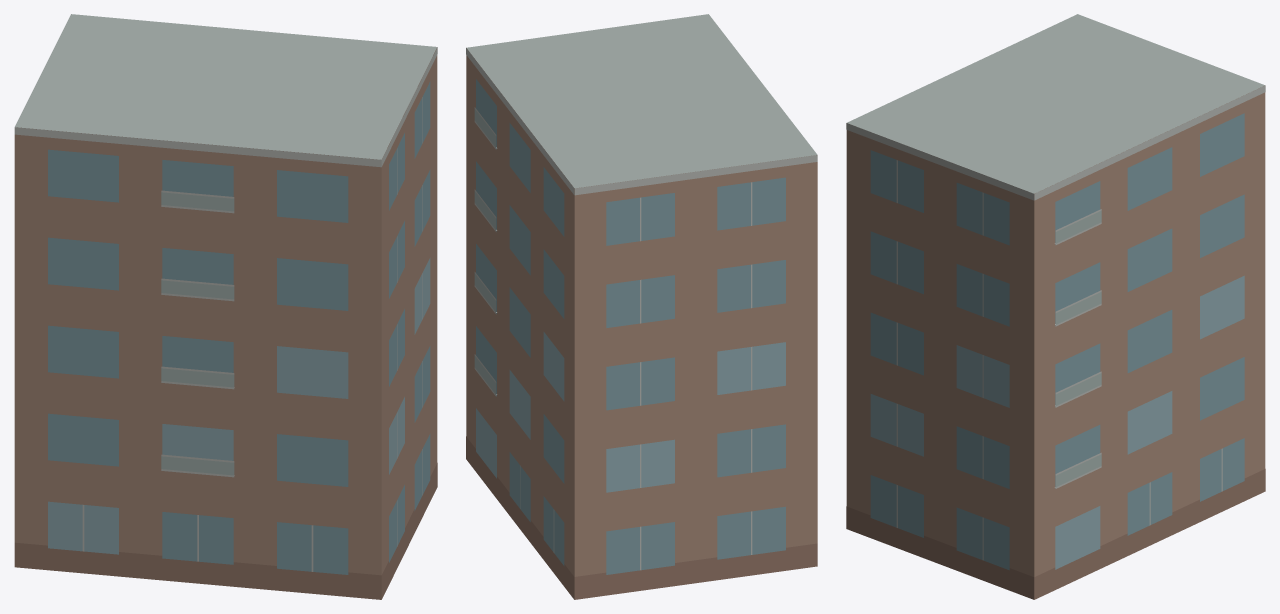
The model's file is survey-upis-33014919.glb.
3 renders of one model, left to right at view 1: azimuth 30°, elevation 25°; view 2: azimuth 150°, elevation 25°; view 3: azimuth 270°, elevation 25°, orthographic. The views are drawn at different scales.
Parts seen in each view (by area): view 1: survey-upis-33014919.tmp; view 2: survey-upis-33014919.tmp; view 3: survey-upis-33014919.tmp.
Boxes of the visible parts, x1,y1,x2,y2 form: survey-upis-33014919.tmp: [14, 14, 437, 599]; survey-upis-33014919.tmp: [466, 14, 817, 599]; survey-upis-33014919.tmp: [846, 14, 1265, 599].
Bounding box in the file's own units: 13.68 × 14.4 × 13.47.
